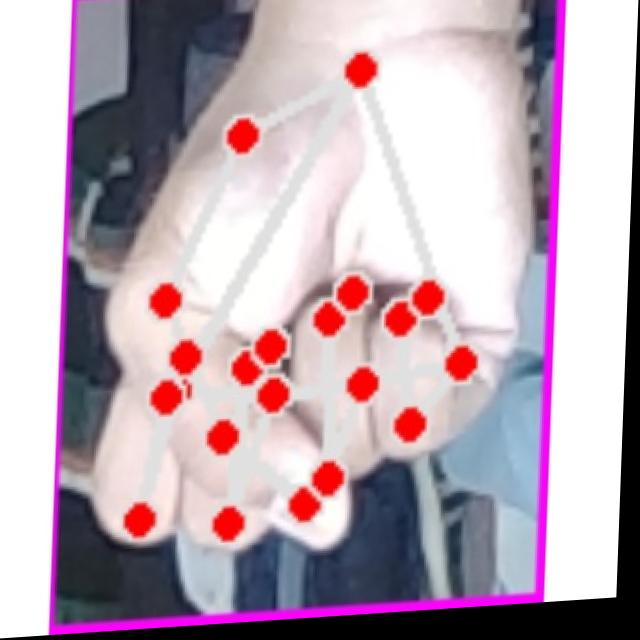S: (87, 33, 545, 597)
